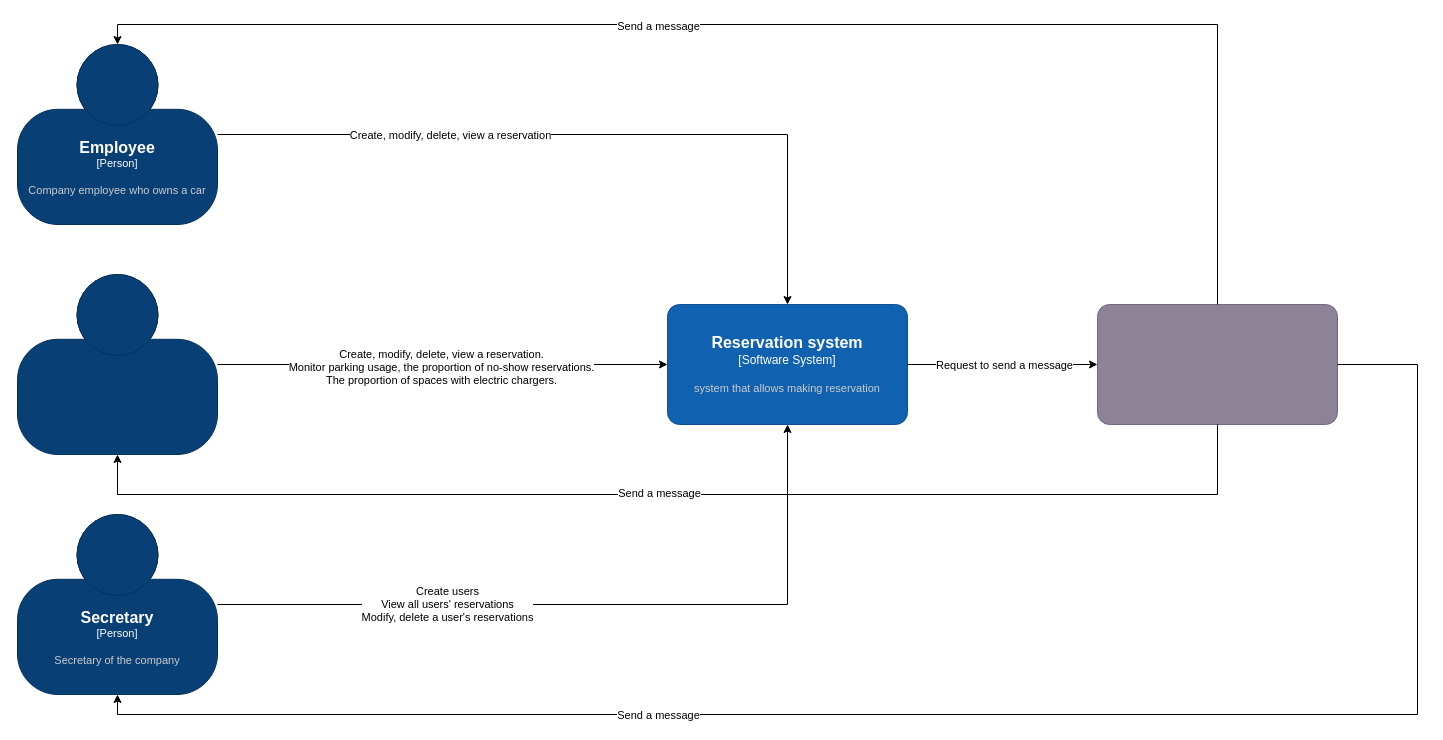
This 1443x740 diagram has some shape labels left out. Each missing label, with the centre of its shape:
"Manager [Person] Company Manager" goes at (x=117, y=364).
"Messaging system [Software System] system that notifies a user" goes at (x=1217, y=364).
